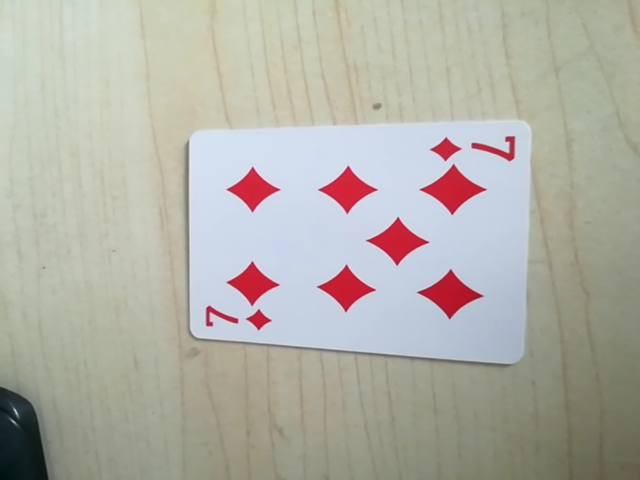fk 7: (427, 125, 522, 168), (200, 305, 275, 337)
